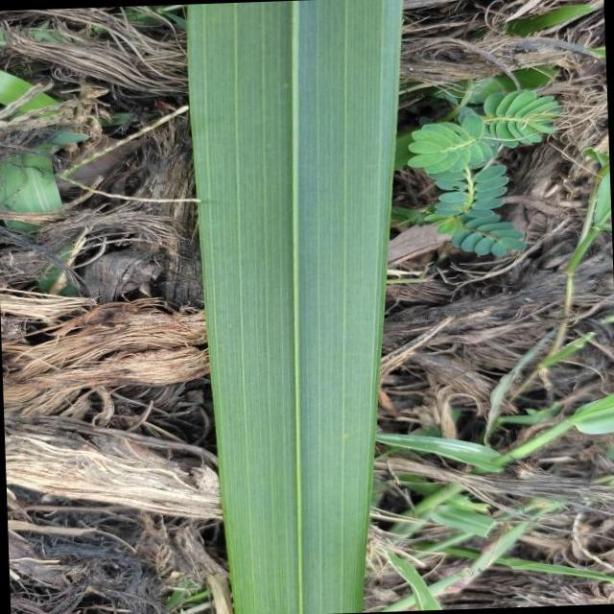Healthy: (185, 0, 403, 614)
